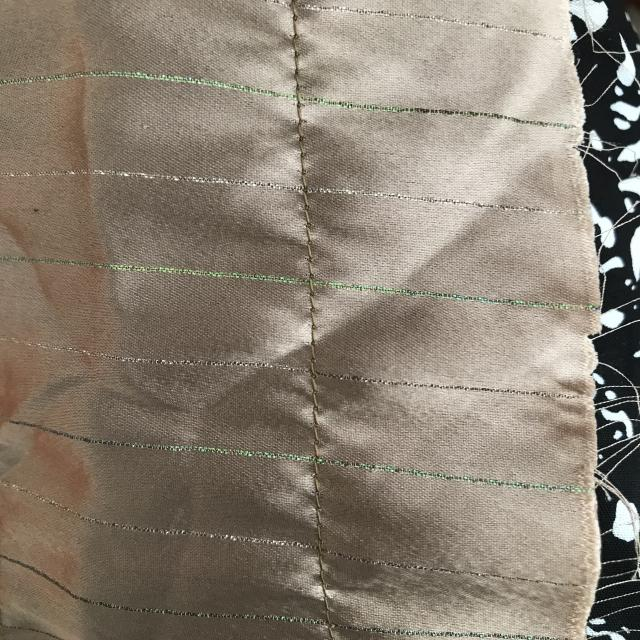good: (283, 200, 326, 278), (294, 300, 329, 362)
